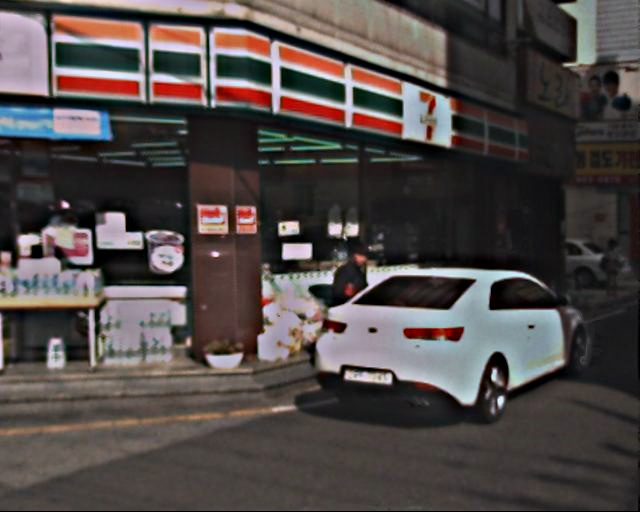person: (335, 230, 392, 370), (600, 233, 634, 301)
